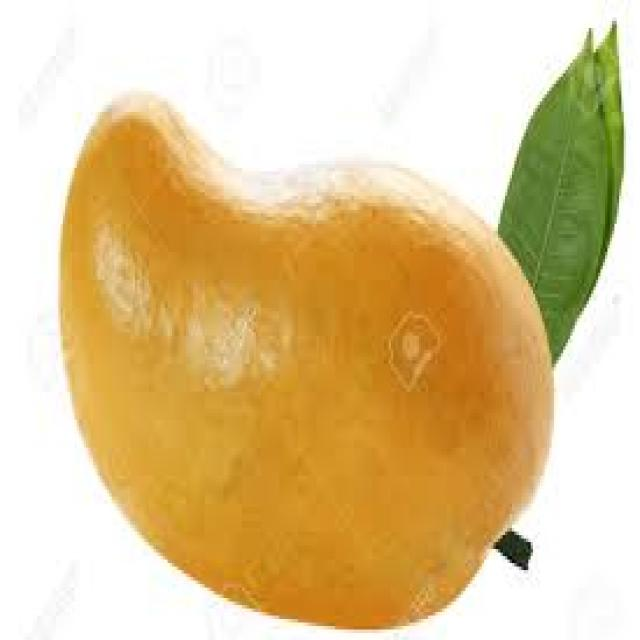organic waste: (56, 84, 554, 626), (498, 21, 600, 364), (591, 14, 622, 255)
